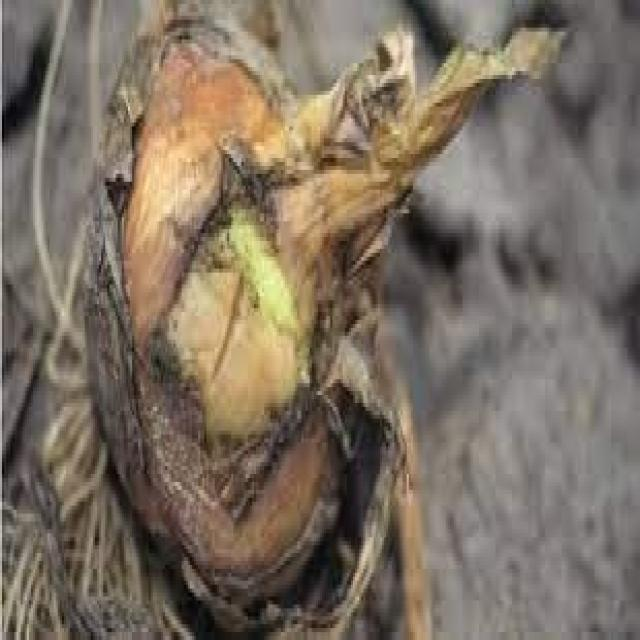Onion: (0, 12, 570, 640)
